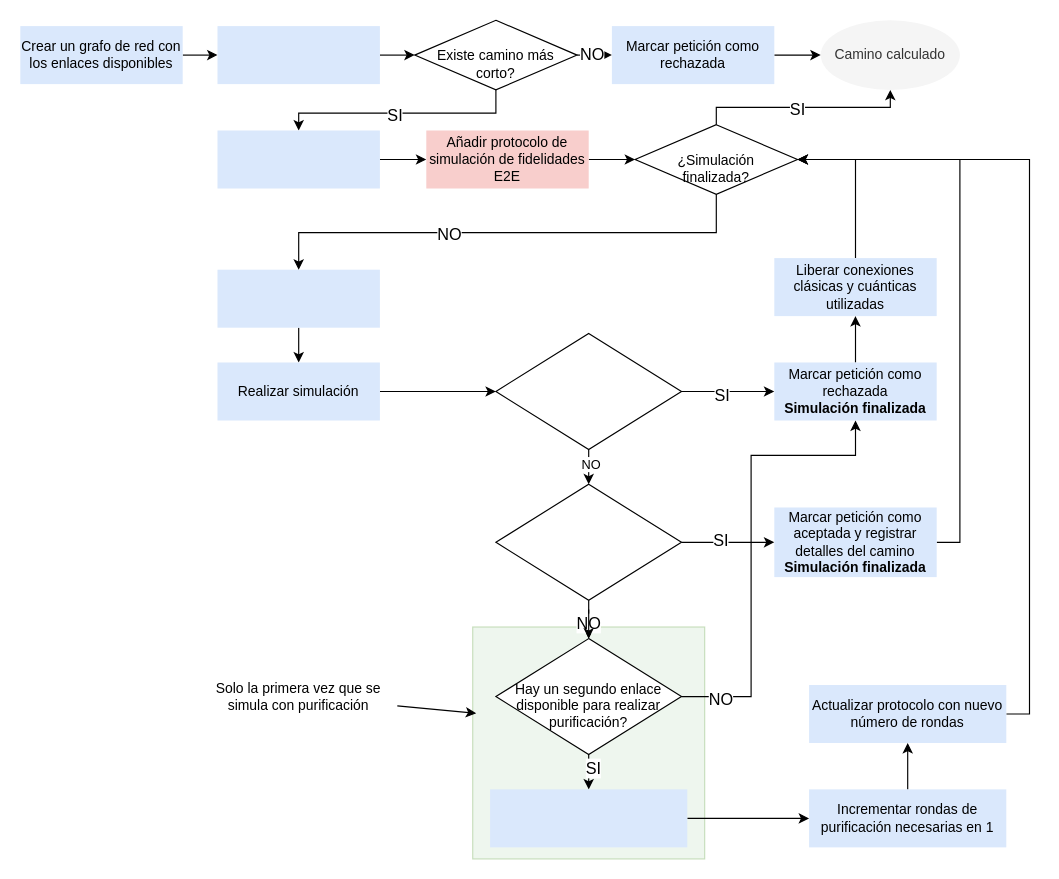
The diagram is 1059 pixels wide and 879 high, and some of its shapes have lost their labels. The centre of each missing label's shape, as x and y in pixels:
Asignar segundo enlace cuántico Activar protocolo purificación: the point at 588,818
Añadir conexiones clásicas entre nodos del camino: the point at 298,159
Calcular camino más corto entre origen y destino: the point at 298,55
Fidelidad media superior a la solicitada?: the point at 588,541
Iniciar protocolo: the point at 298,298
Tiempo medio de cada medida superior al máximo permitido?: the point at 588,390
